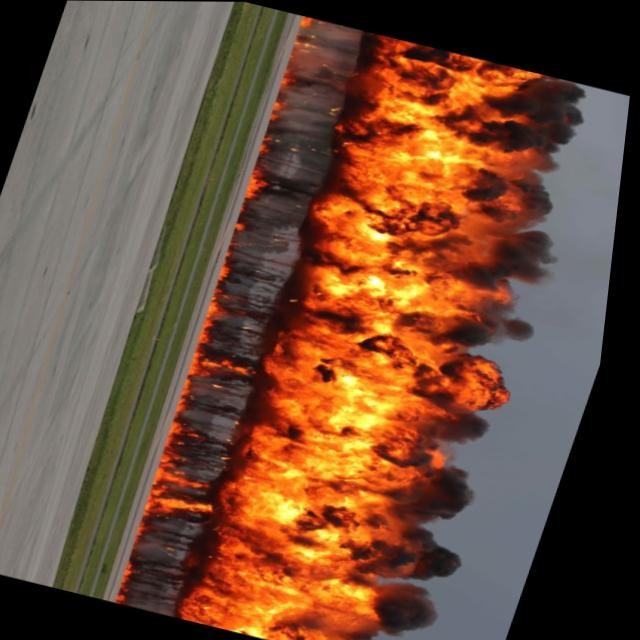Fire: (121, 27, 568, 640)
